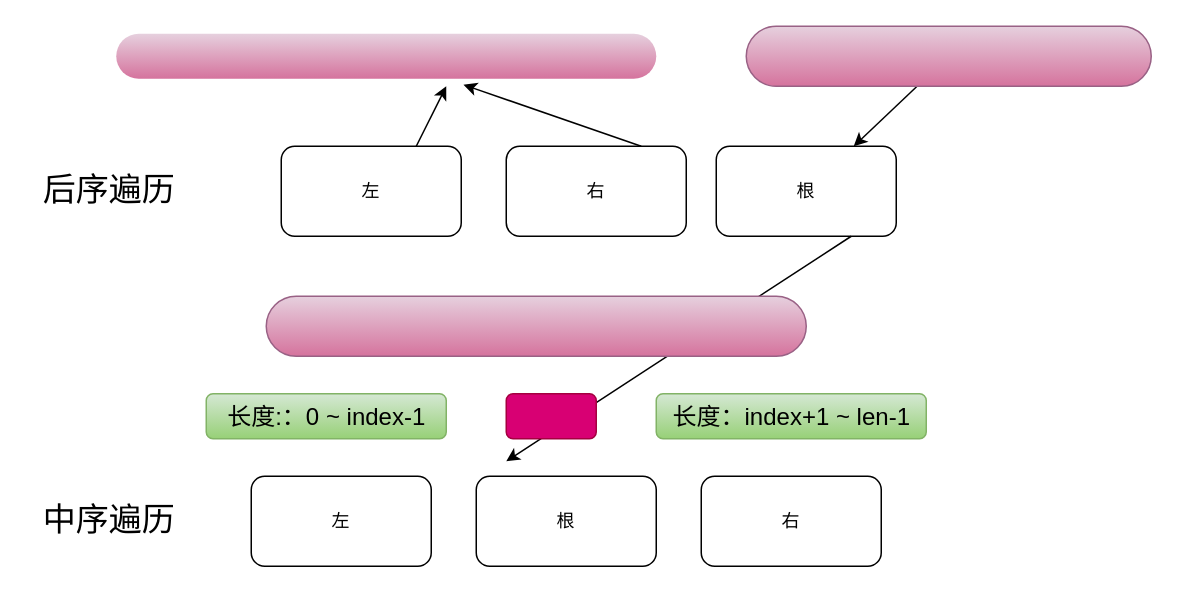
Some shapes in this 1178 by 593 pixel diagram are drawn without their labels. The centre of each missing label's shape, as x and y in pixels:
"1 .后序遍历一定是根节点在最后面" belongs at point (948, 55).
"2.根据根节点的值找到根节点在中序遍历的索引" belongs at point (535, 325).
"3. 根据第一步的规律递归左右节点，分解子问题" belongs at point (386, 55).
"Index" belongs at point (550, 415).
